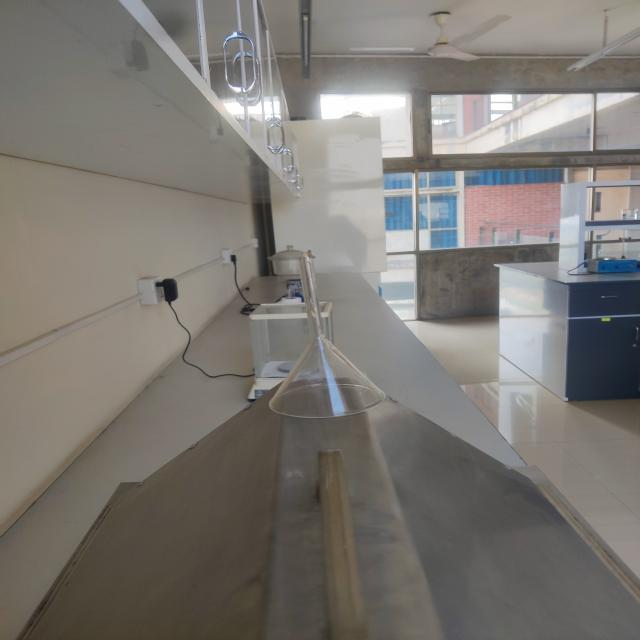Funnel: (241, 226, 427, 448)
